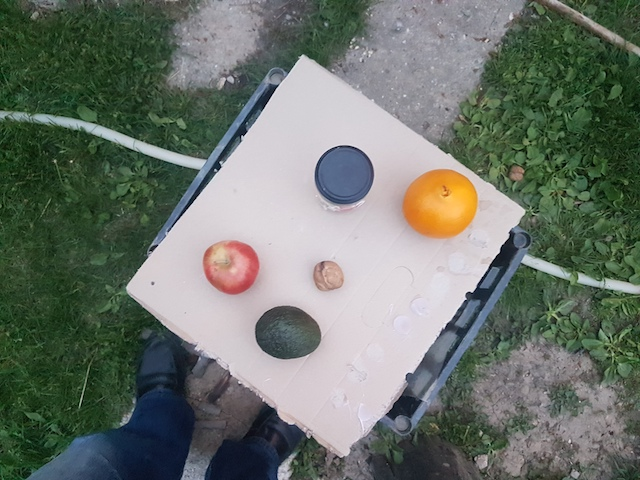apple: (202, 240, 259, 294)
avocado: (252, 304, 324, 360)
nut: (311, 255, 344, 292)
orange: (402, 170, 481, 238)
recipient: (315, 143, 373, 203)
